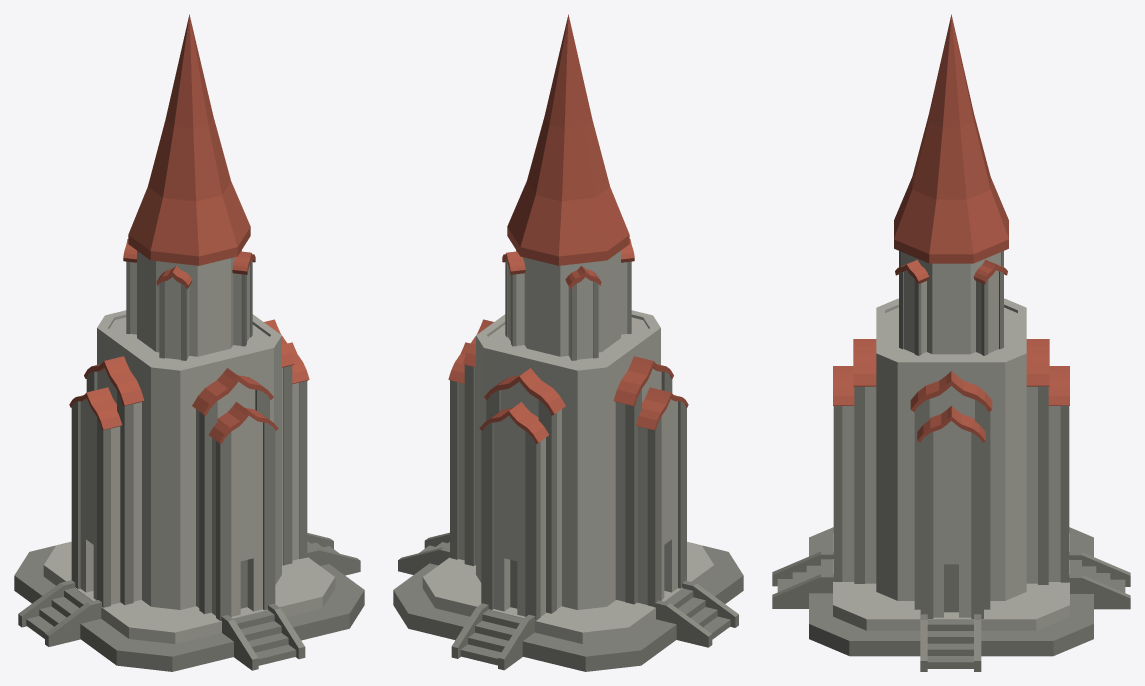
Rendered from Temple-v36uJiErXS.glb.
The picture shows the model from 3 angles, left to right: view 1: azimuth 30°, elevation 25°; view 2: azimuth 150°, elevation 25°; view 3: azimuth 270°, elevation 25°; orthographic projection.
Visible parts, largest first — view 1: Temple_SecondAge_Level2; view 2: Temple_SecondAge_Level2; view 3: Temple_SecondAge_Level2.
Part boxes in pixels (<box>): Temple_SecondAge_Level2: <box>14,14,364,671</box>; Temple_SecondAge_Level2: <box>393,14,743,671</box>; Temple_SecondAge_Level2: <box>772,14,1130,671</box>.
Size of the model in its own units: 2.19 by 3.93 by 2.19.
